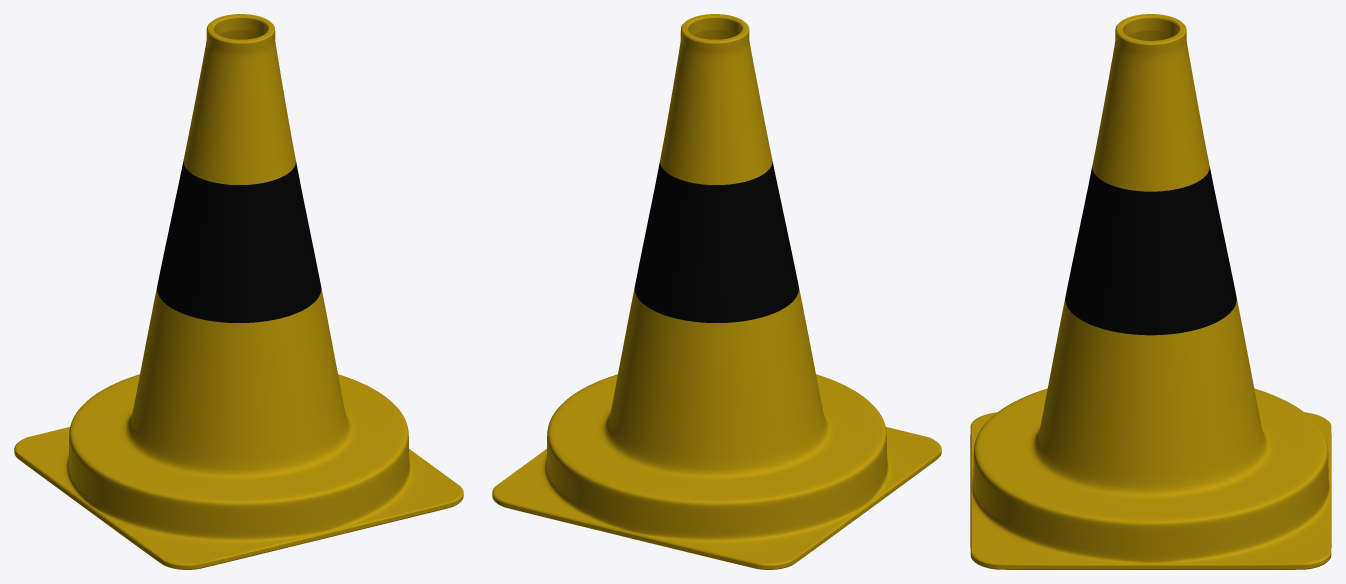
The model's file is yellow_cone.fbx.
3 renders of one model, left to right at view 1: azimuth 30°, elevation 25°; view 2: azimuth 150°, elevation 25°; view 3: azimuth 270°, elevation 25°, orthographic. The views are drawn at different scales.
Parts seen in each view (by area): view 1: Cono; view 2: Cono; view 3: Cono.
Boxes of the visible parts, box(x1,y1,x2,y2) form: Cono: box(14, 14, 463, 569); Cono: box(492, 14, 941, 569); Cono: box(970, 14, 1331, 569).
Bounding box in the file's own units: 22.8 × 32.5 × 22.8.
